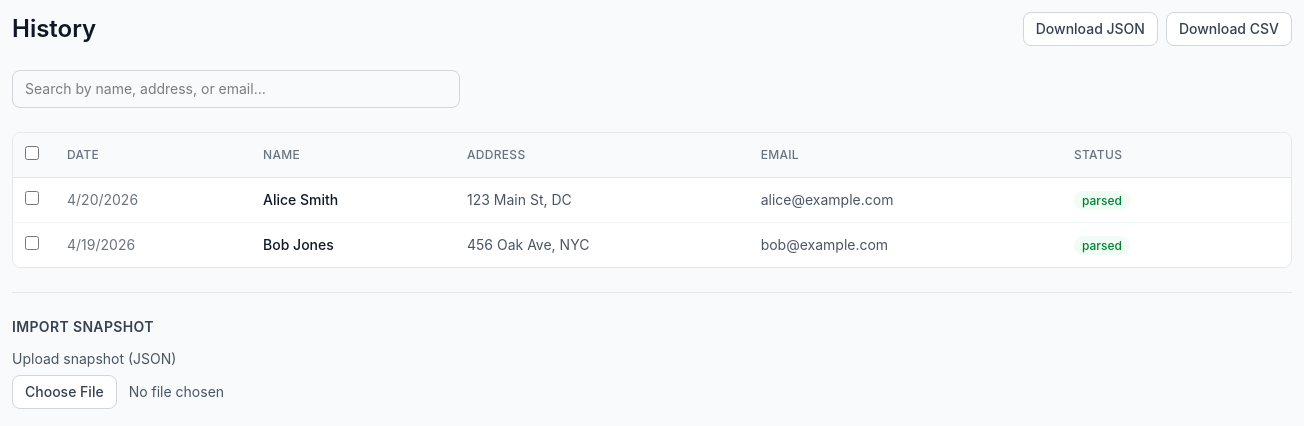
Test: search by email filters contacts
Expected: the text "Alice Smith" is shown, top-left (247, 178), bottom-right (451, 222)
Type "alice@example" into the search field with placeholder "Search by name, address, or email…" at (236, 89), box top-left (12, 70), bottom-right (460, 108)
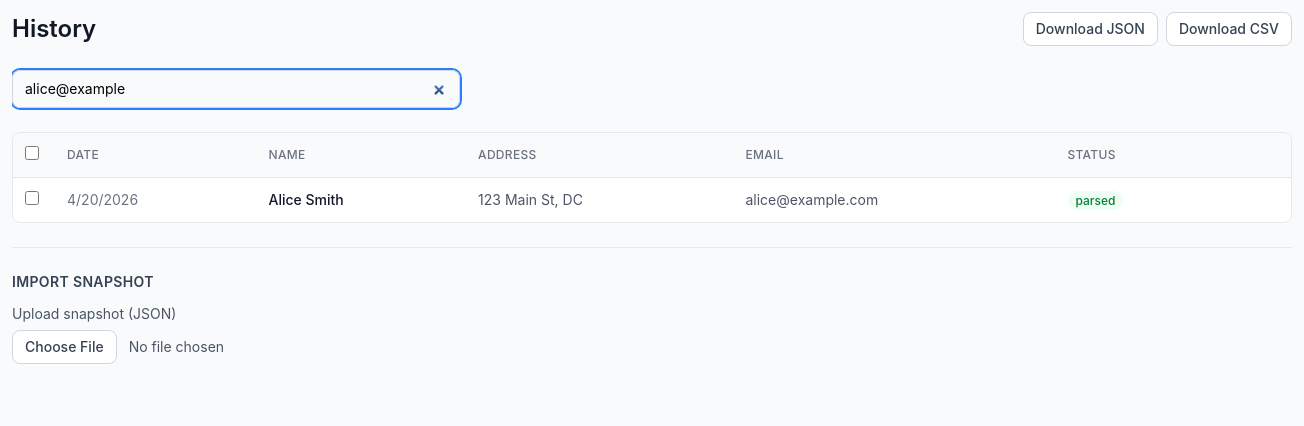
Expected: the text "alice@example.com" is shown, top-left (730, 178), bottom-right (1052, 222)
Expected: the text "bob@example.com" is gone
